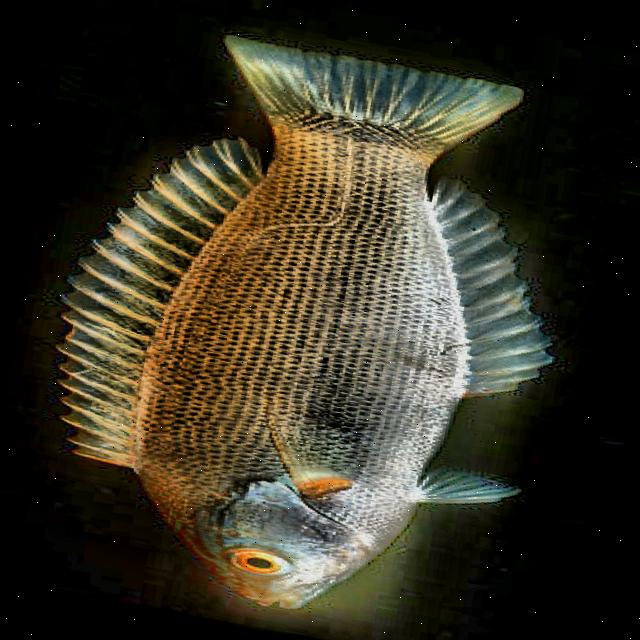fish: (9, 10, 602, 640)
